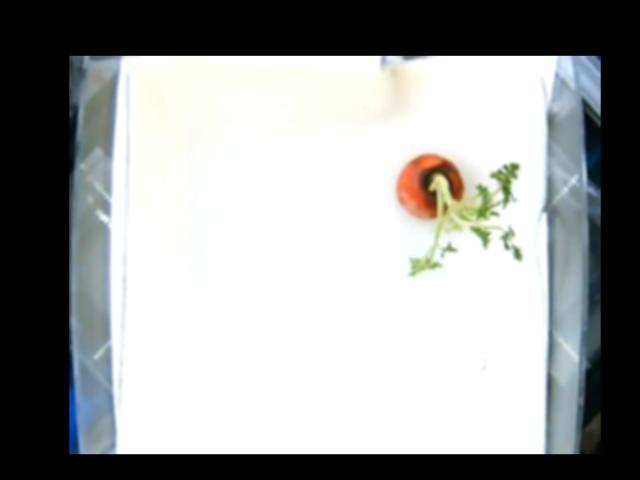Carrot: (393, 154, 525, 278)
